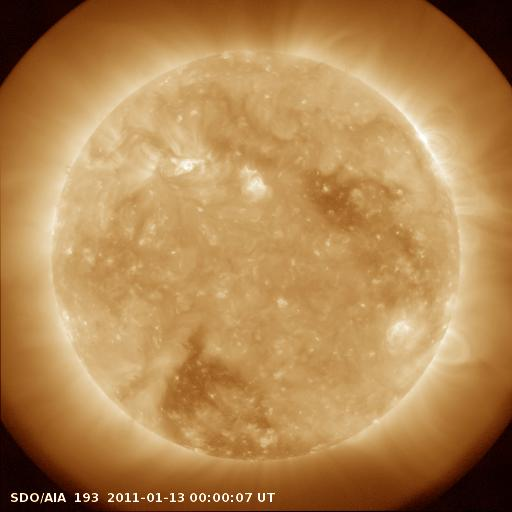coronal_hole: (164, 326, 262, 418), (301, 164, 380, 241)
